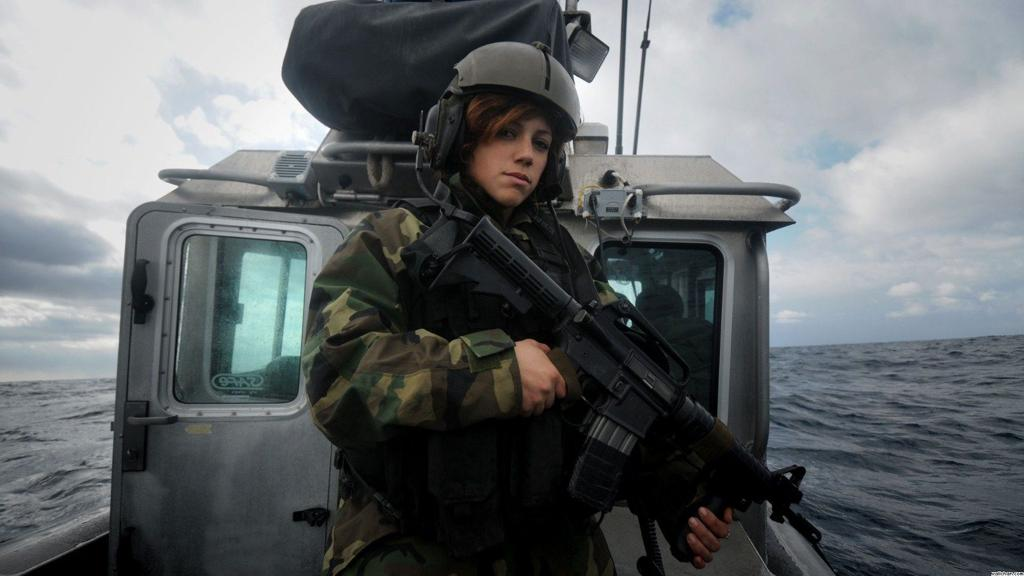face: (470, 86, 556, 206)
